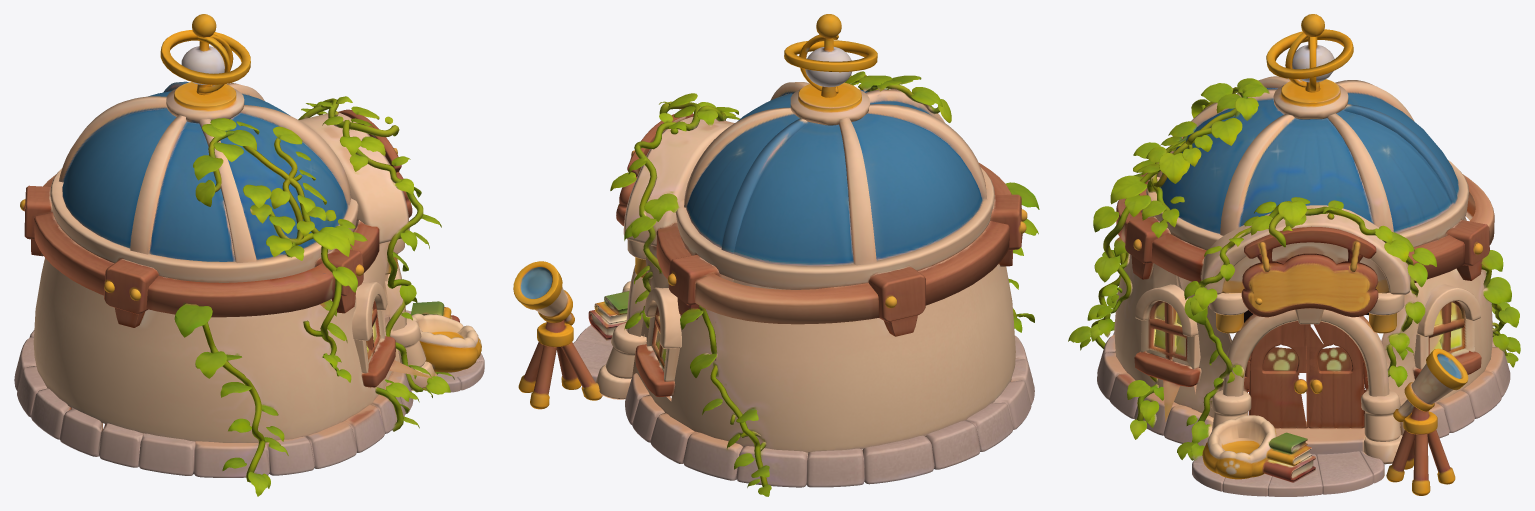
The model's file is C04_bld_lab.fbx.
3 views of the same model, side by side, from view 1: azimuth 30°, elevation 25°; view 2: azimuth 150°, elevation 25°; view 3: azimuth 270°, elevation 25° (orthographic). The views are drawn at different scales.
Parts seen in each view (by area): view 1: tripo_node_89827ac3; view 2: tripo_node_89827ac3; view 3: tripo_node_89827ac3.
Part boxes in pixels (x1=…): tripo_node_89827ac3: x1=14, y1=14, x2=484, y2=496; tripo_node_89827ac3: x1=513, y1=14, x2=1039, y2=496; tripo_node_89827ac3: x1=1068, y1=14, x2=1520, y2=496.
Size of the model in its own units: 0.9995 by 0.8838 by 0.9878.
